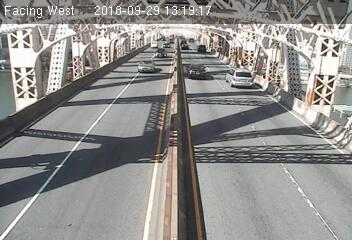car: (224, 68, 250, 87), (136, 56, 158, 76), (185, 63, 208, 81), (150, 37, 160, 49), (196, 43, 208, 52), (180, 41, 191, 49), (161, 40, 172, 47)
